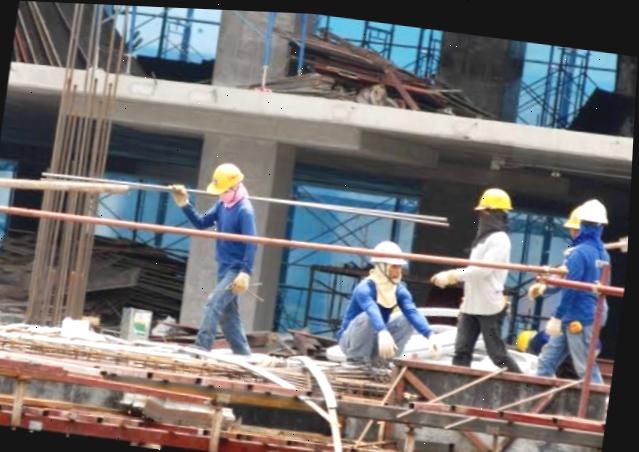helmet: (199, 158, 244, 200), (473, 175, 525, 210), (363, 230, 413, 264), (562, 193, 591, 224), (579, 191, 610, 218)
